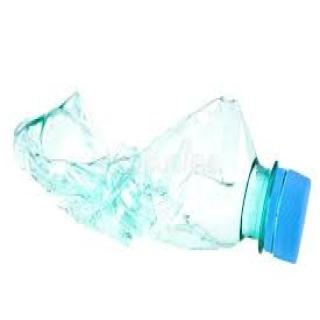Anorganik: (8, 77, 320, 285)
